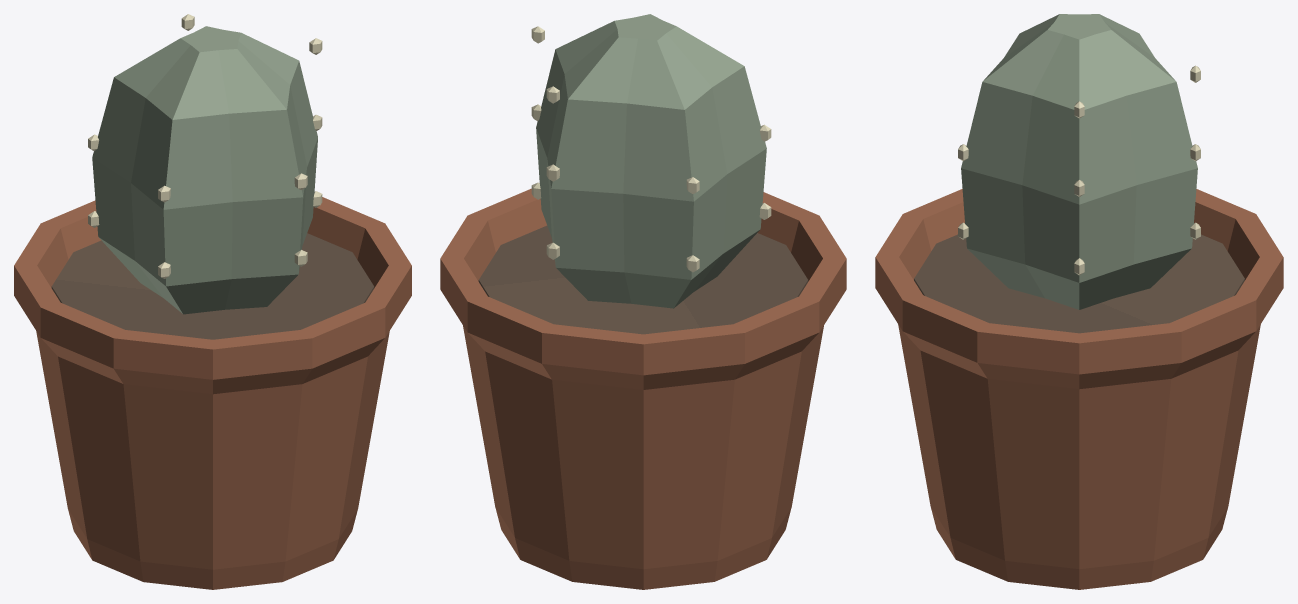
Rendered from new-myriostigma.glb.
3 renders of one model, left to right at view 1: azimuth 30°, elevation 25°; view 2: azimuth 150°, elevation 25°; view 3: azimuth 270°, elevation 25°, orthographic. The views are drawn at different scales.
Parts seen in each view (by area): view 1: new-myriostigma/review-terra-vessel, new-myriostigma/ribbed-stem-001, new-myriostigma/review-rooted-soil; view 2: new-myriostigma/review-terra-vessel, new-myriostigma/ribbed-stem-001, new-myriostigma/review-rooted-soil; view 3: new-myriostigma/review-terra-vessel, new-myriostigma/ribbed-stem-001, new-myriostigma/review-rooted-soil.
Boxes of the visible parts, x1,y1,x2,y2 form: new-myriostigma/review-terra-vessel: (14, 197, 411, 589); new-myriostigma/ribbed-stem-001: (92, 26, 317, 314); new-myriostigma/review-rooted-soil: (51, 233, 374, 339); new-myriostigma/review-terra-vessel: (440, 188, 846, 589); new-myriostigma/ribbed-stem-001: (536, 14, 766, 308); new-myriostigma/review-rooted-soil: (478, 225, 808, 334); new-myriostigma/review-terra-vessel: (875, 189, 1283, 589); new-myriostigma/ribbed-stem-001: (961, 14, 1197, 309); new-myriostigma/review-rooted-soil: (914, 234, 1244, 333).
Bounding box in the file's own units: 0.19 × 0.259 × 0.19.
Materials: 4 (4 with a texture image).
